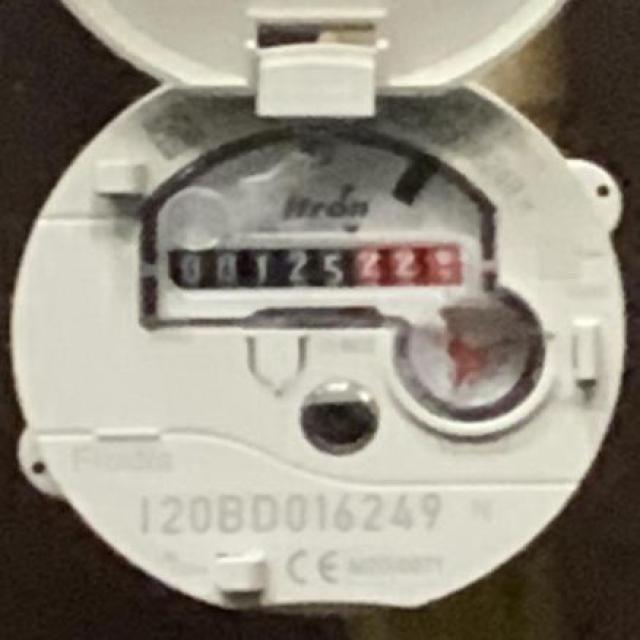gaz_meter: (6, 45, 630, 611)
indication: (167, 236, 462, 295)
